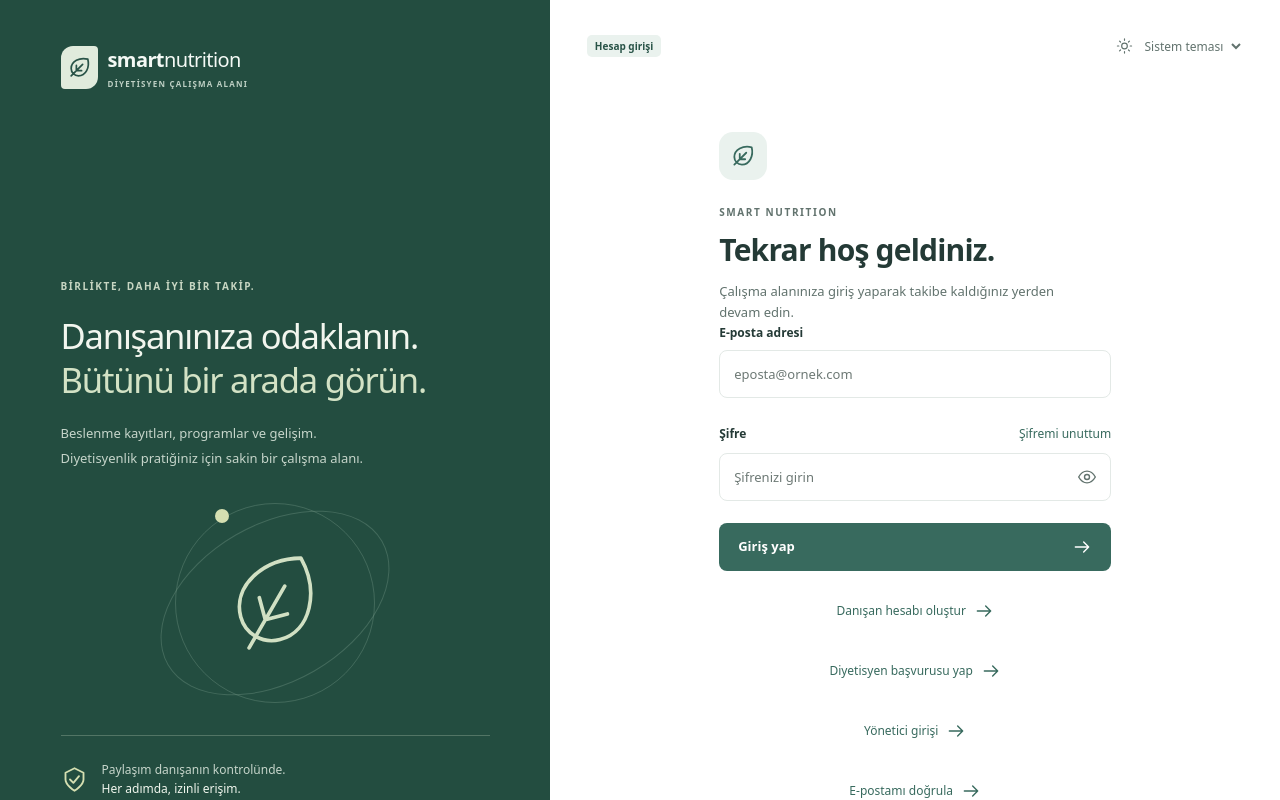
Test: authentication presentation boundary › clears credentials and reports a failed real login without storing anything
Type "demo@example.com" into the field labelled "E-posta adresi". click: (915, 374)
box: [719,350,1111,398]
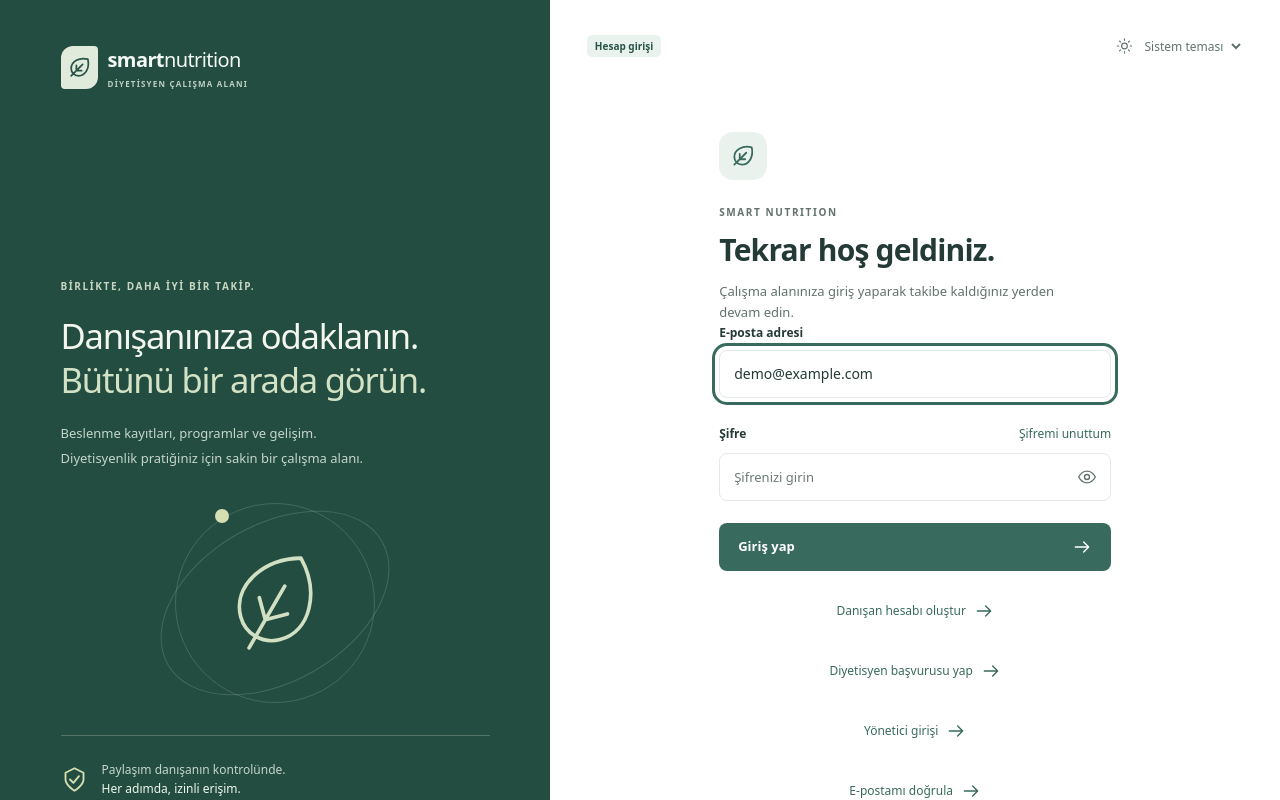
Type "a" into the password field labelled "Şifre". click: (915, 477)
box: [719,453,1111,501]
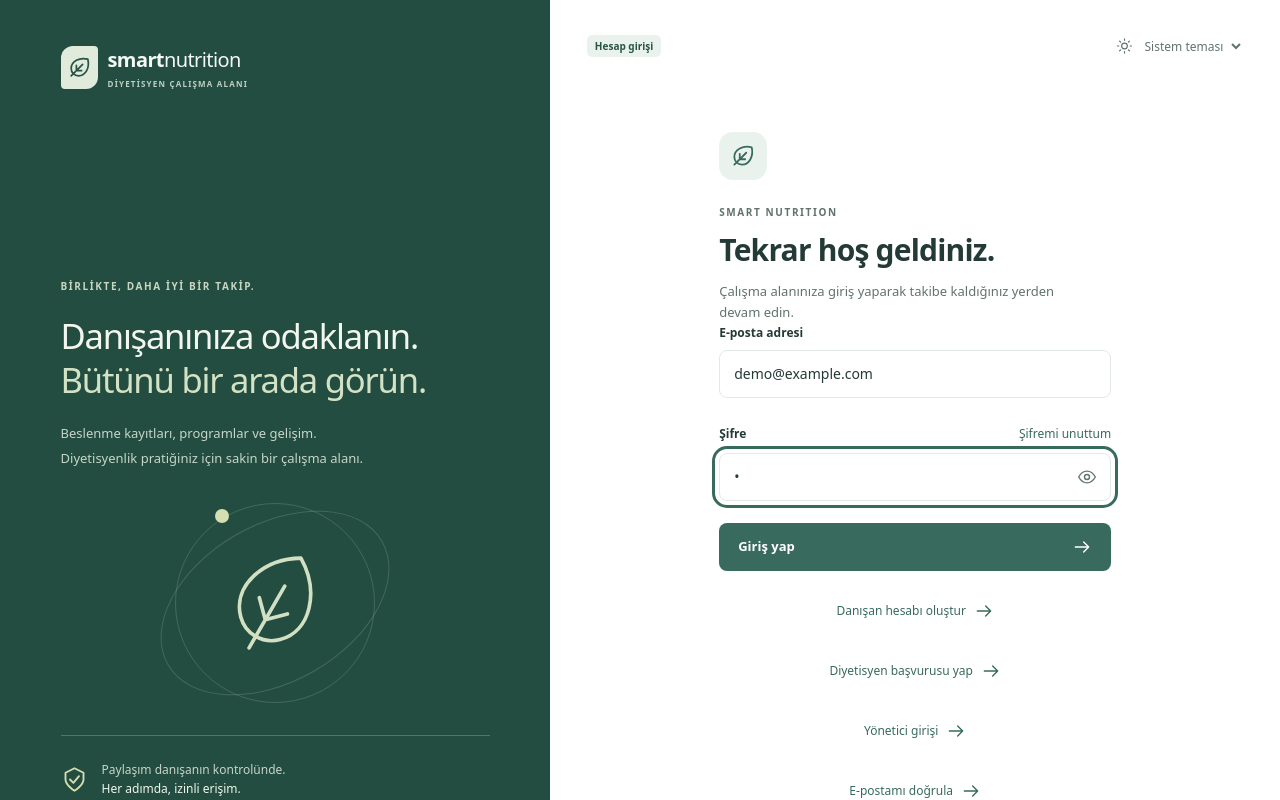
Click the button "Giriş yap". click: (766, 546)
box: [719,523,1111,571]
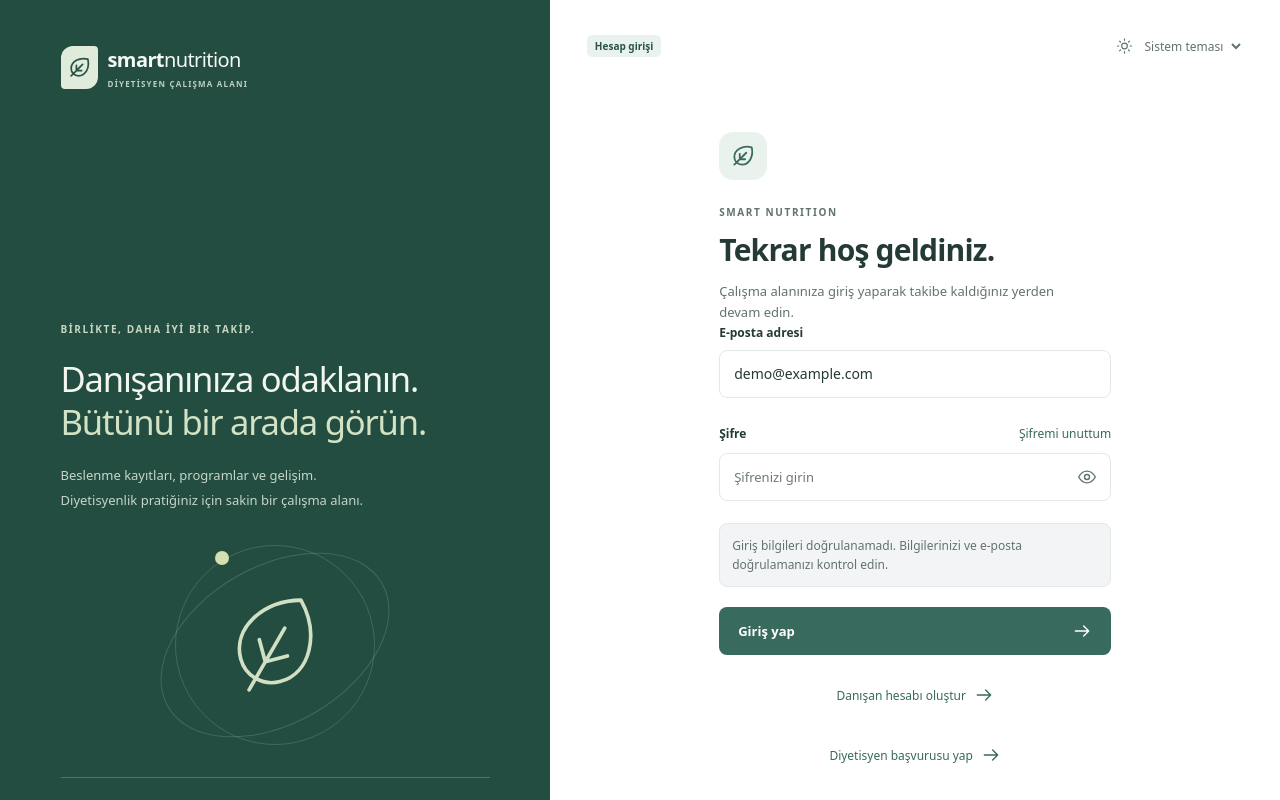
expect the heading "Tekrar hoş geldiniz." is shown: met, box [719,229,994,270]
expect the message shows "Giriş bilgileri doğrulanamadı": met, box [732,537,1022,573]
expect the password field labelled "Şifre" is empty: met, box [719,453,1111,501]
